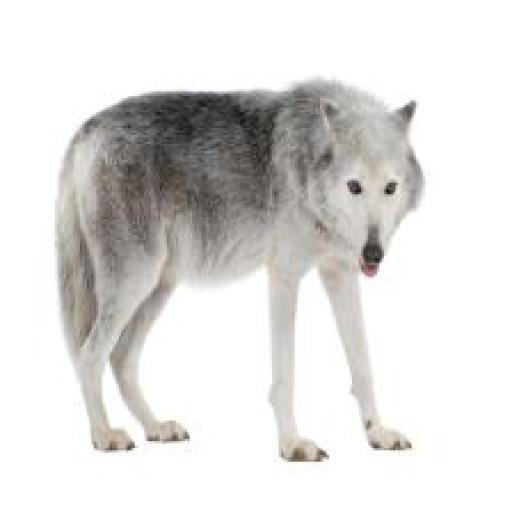wolf: (39, 69, 439, 472)
